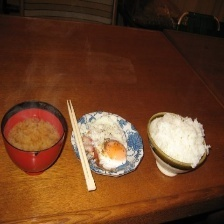rice: (147, 111, 211, 170)
